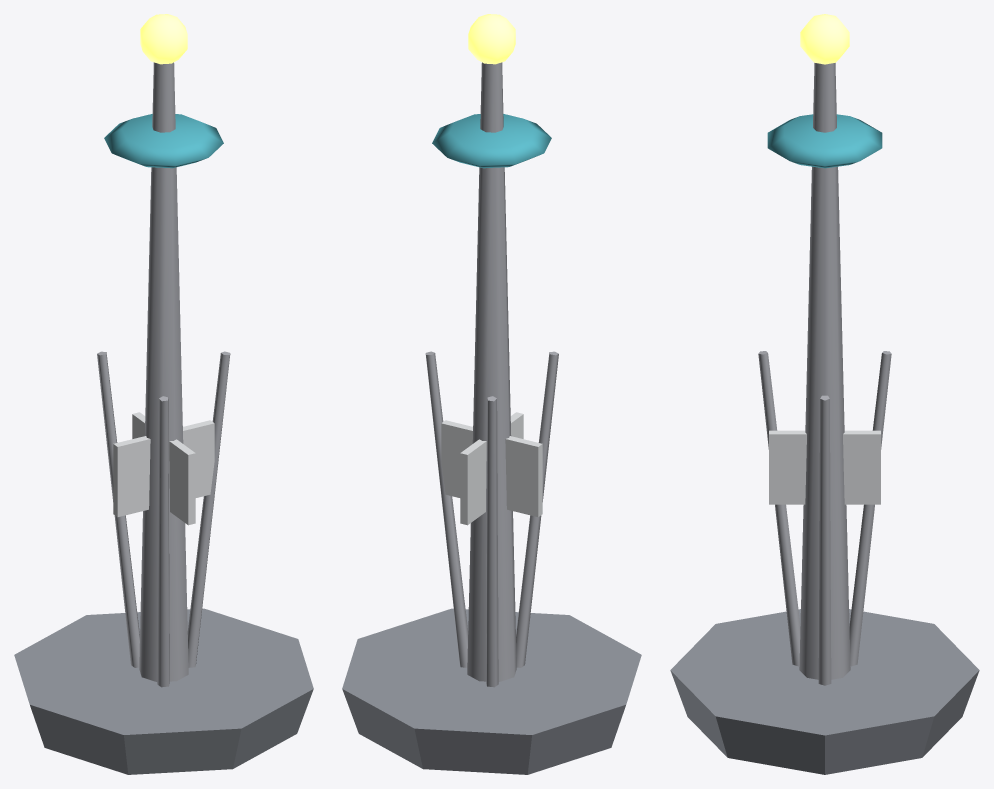
The model's file is beacon.glb.
3 views of the same model, side by side, from view 1: azimuth 30°, elevation 25°; view 2: azimuth 150°, elevation 25°; view 3: azimuth 270°, elevation 25° (orthographic).
Visible parts, largest first — view 1: beacon_m; view 2: beacon_m; view 3: beacon_m.
Part boxes in pixels (<box>): beacon_m: <box>14,14,313,774</box>; beacon_m: <box>342,14,641,774</box>; beacon_m: <box>670,14,979,774</box>.
Size of the model in its own units: 3.6 by 9.09 by 3.6.
